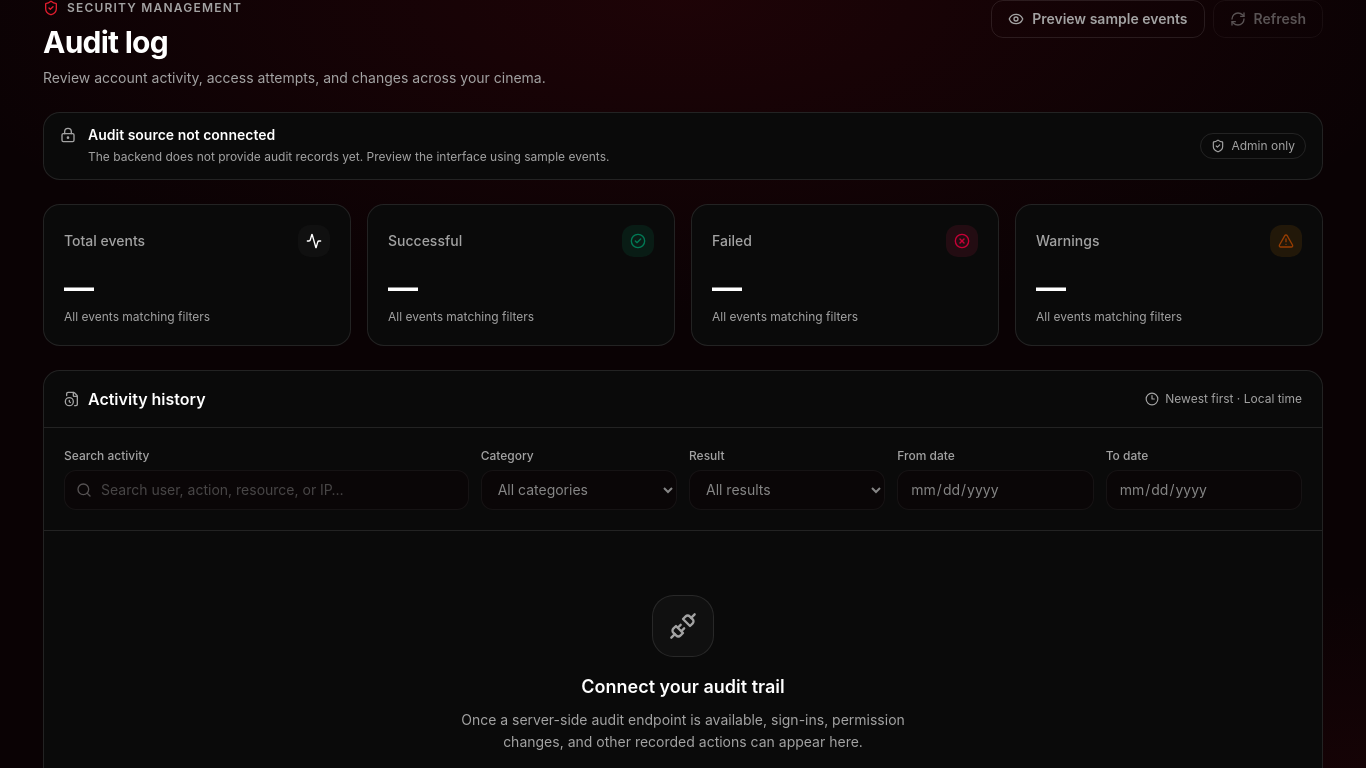
Test case: Audit Logs page › validates reversed dates and resets the date filters
Click the button "Preview sample events" at (1098, 19), box [991,0,1204,38]
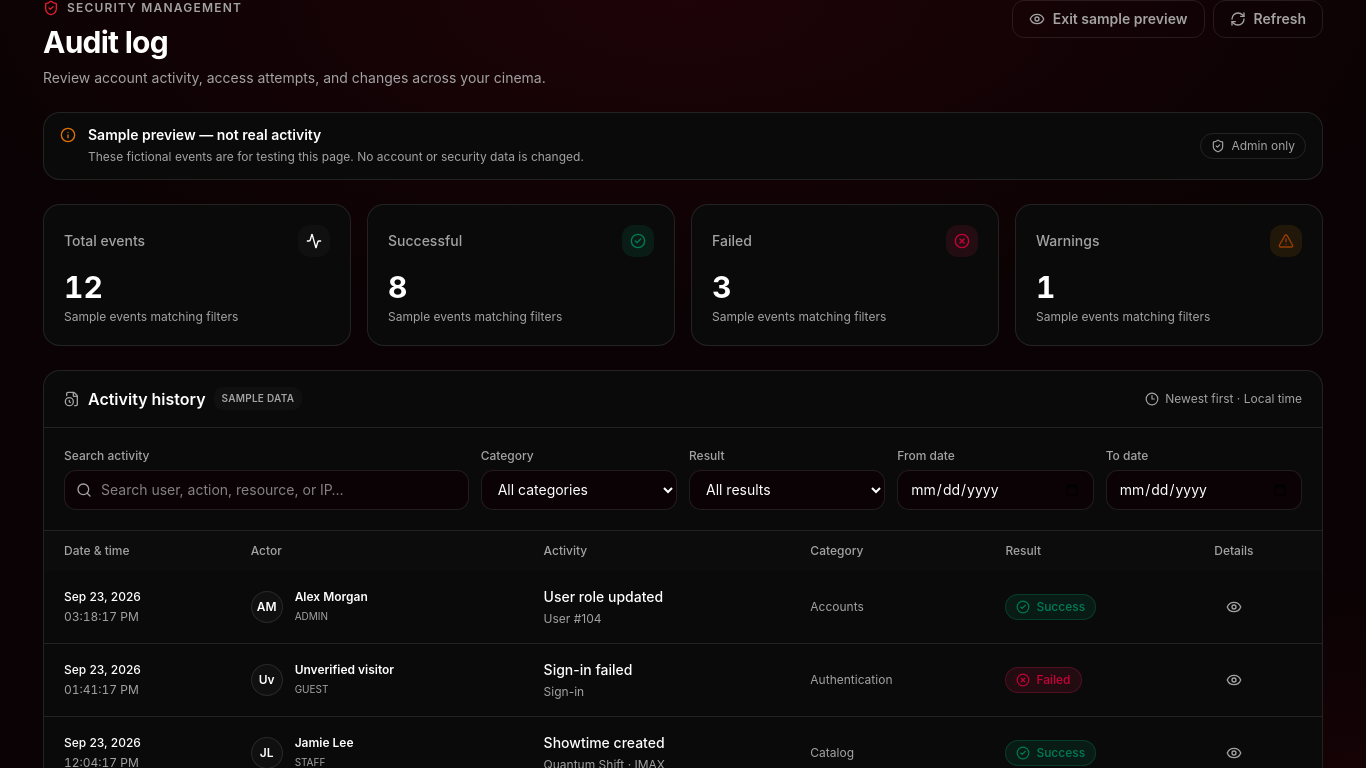
Type "2026-09-09" into the date field labelled "From date" at (995, 490), box [897,470,1094,510]
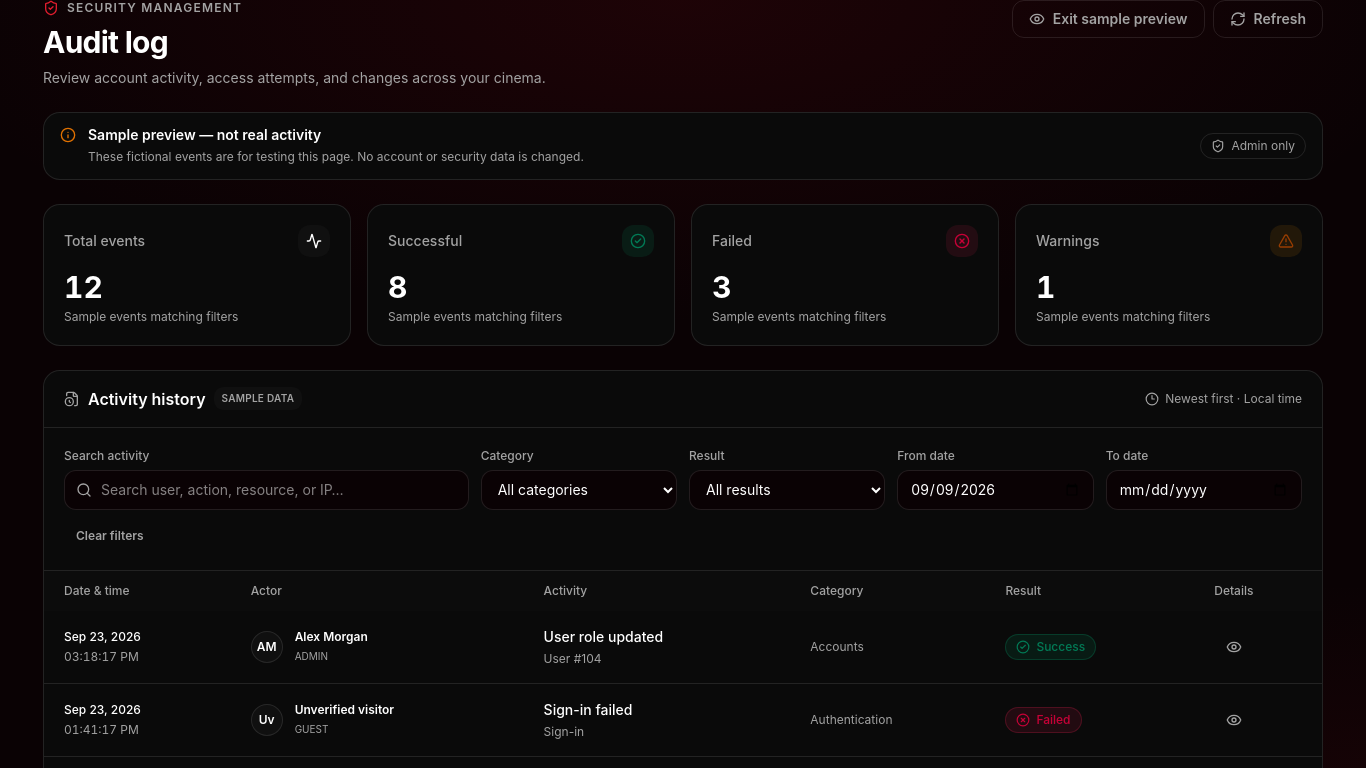
Type "2026-09-08" into the date field labelled "To date" at (1204, 490), box [1106,470,1302,510]
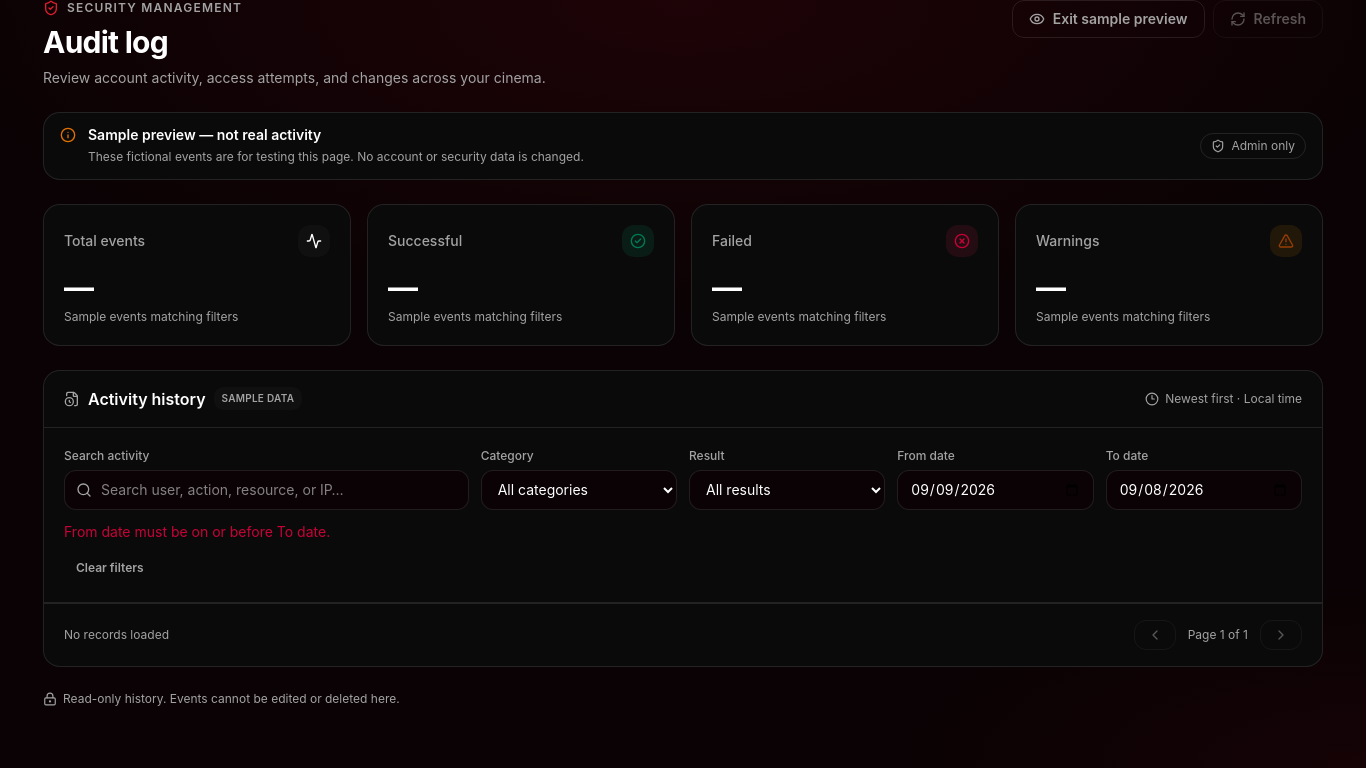
Expected: the message "From date must be on or before To date." is shown, [64,522,330,540]
Expected: the button "Refresh" is disabled, [1212,0,1323,38]
Click the button "Clear filters" at (110, 568), box [64,554,156,582]
(page scrolled)
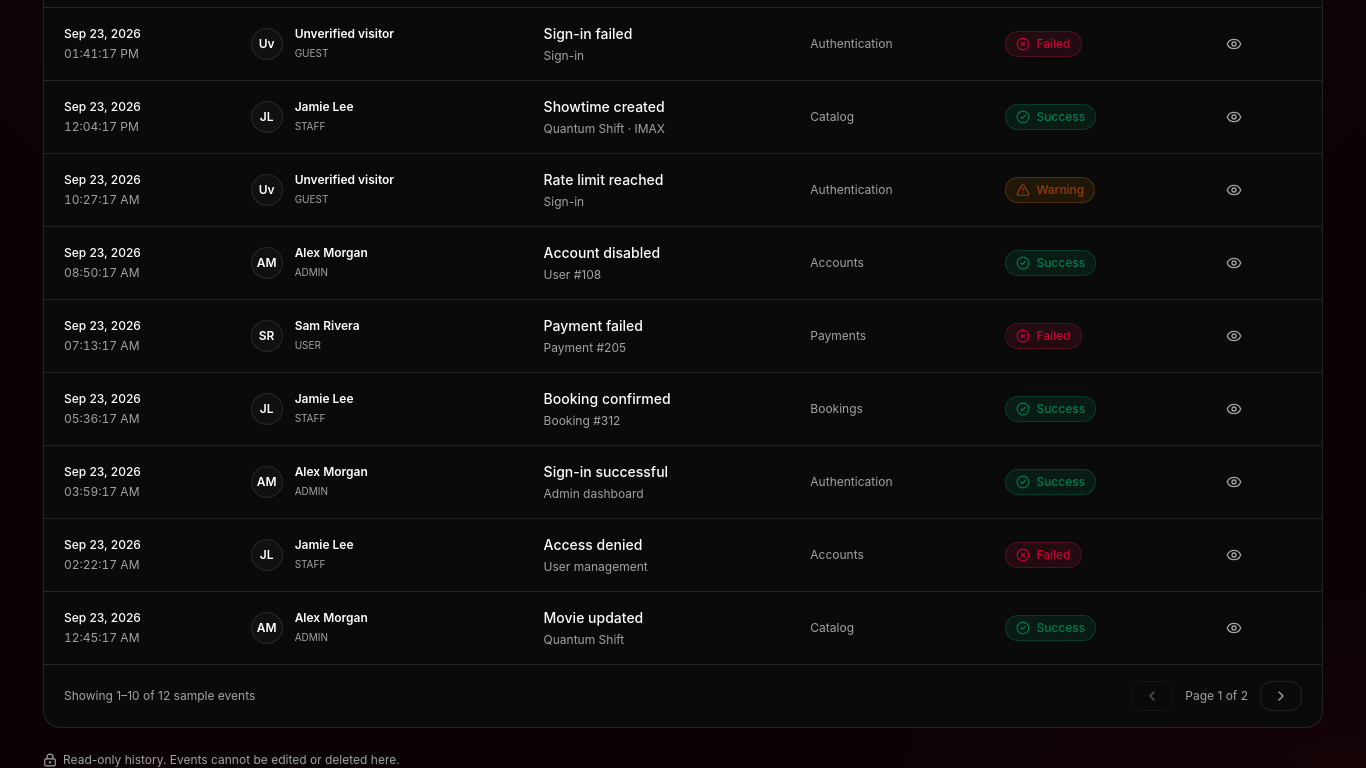
Expected: the text "Showing 1–10 of 12 sample events" is shown, [64,688,255,704]
